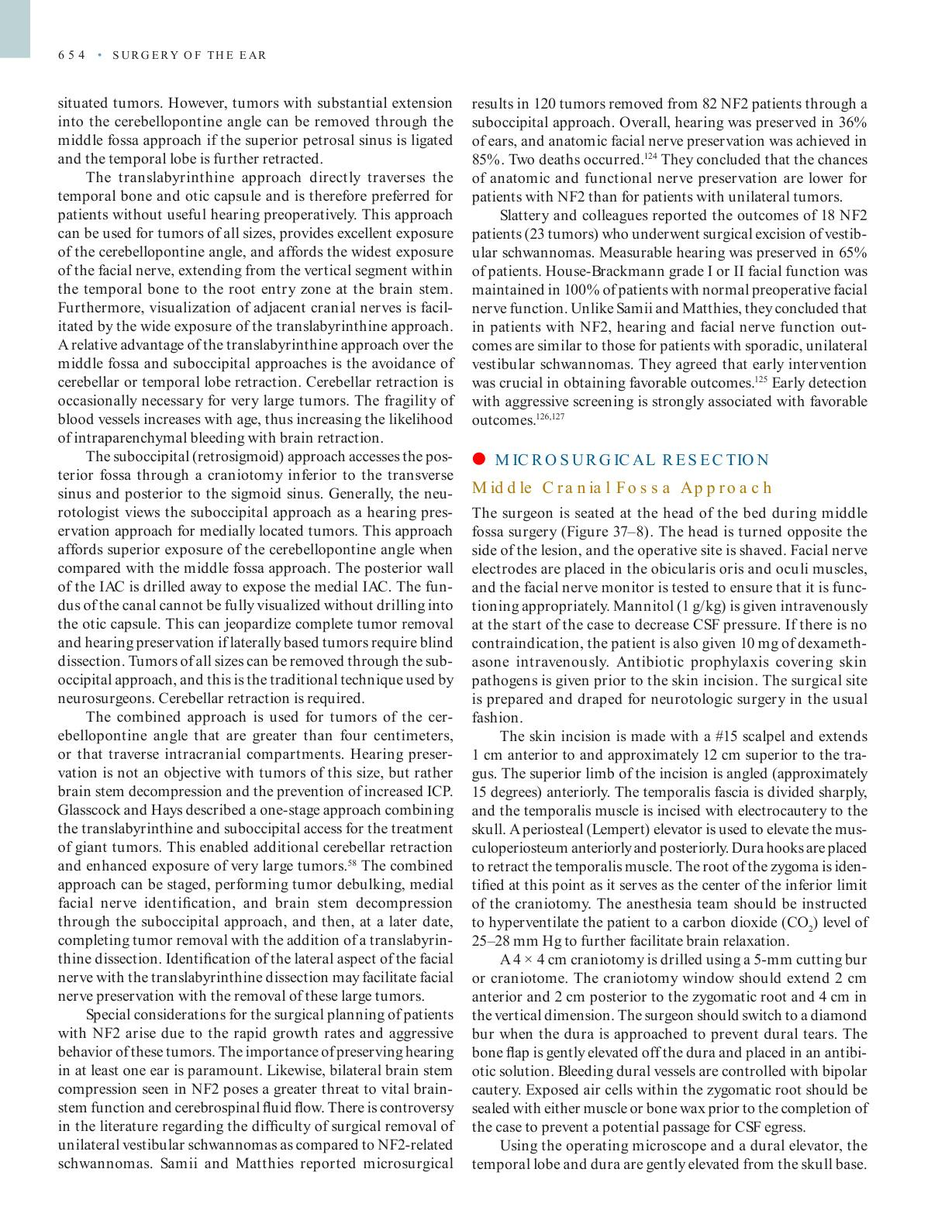header: (111, 48, 268, 61)
section-heading: (493, 451, 771, 469)
sub-section-heading: (469, 478, 773, 499)
text: (55, 95, 456, 1173), (468, 503, 871, 1175), (469, 95, 868, 426)
